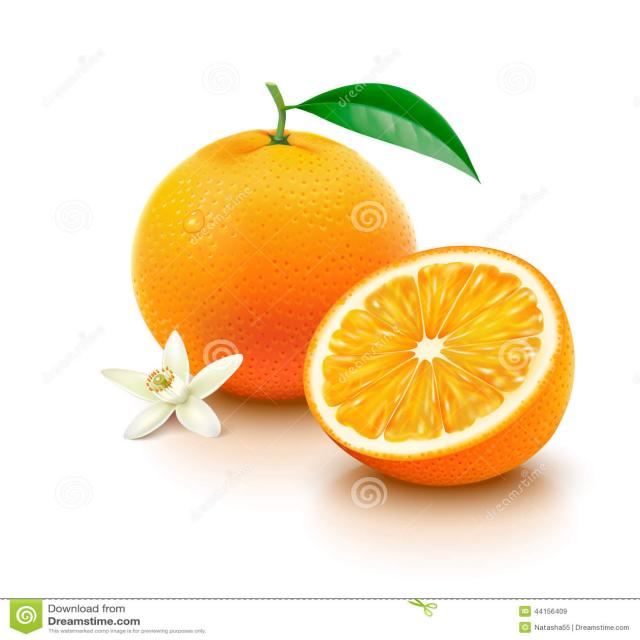orange: (128, 124, 424, 404), (310, 242, 578, 495)
